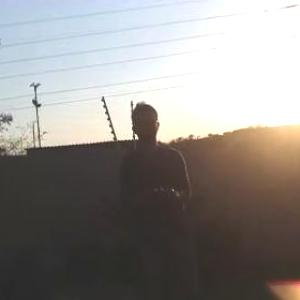follow: (116, 96, 194, 299)
